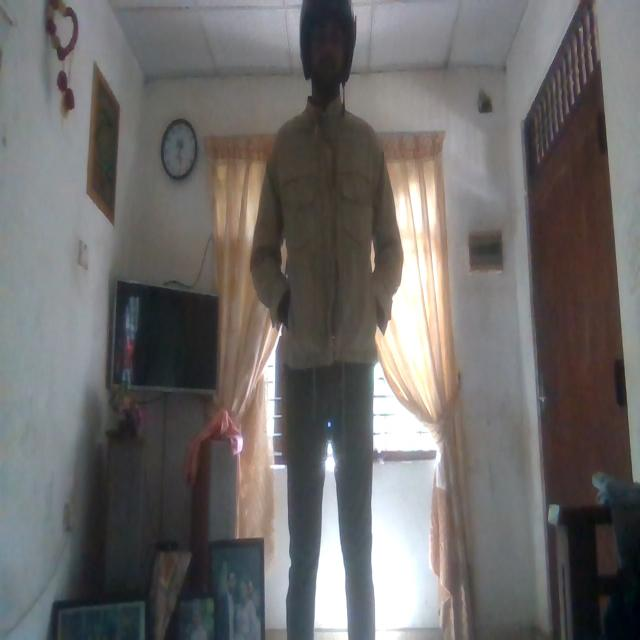Helmet_Wearer: (296, 0, 360, 119)
Jacket_Wearer: (251, 101, 406, 383)
Person: (249, 2, 407, 640)
